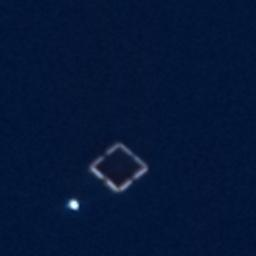square_solid: (82, 137, 154, 198)
